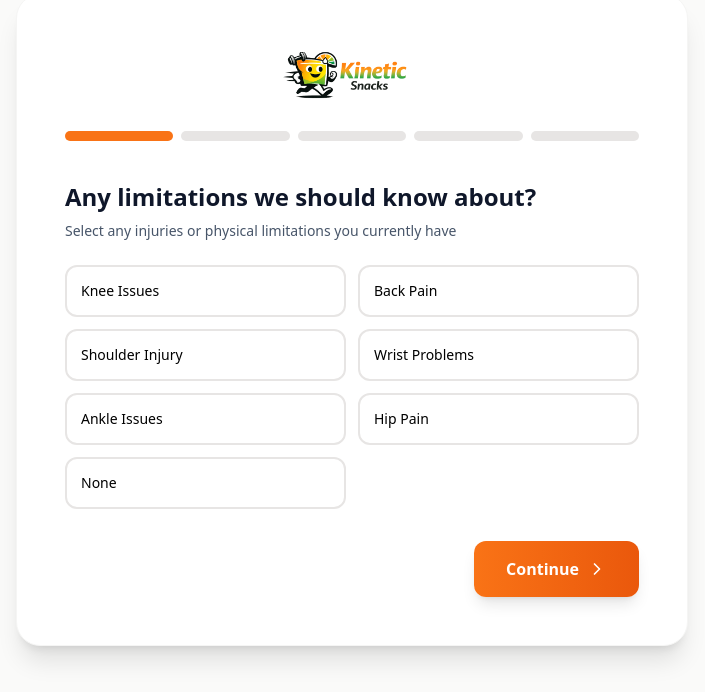
Test: Onboarding notifications setup › collects notification preferences on the final step and returns them in payload
The image size is (705, 692).
Later steps or results of the test are not shown.
Click the button "Continue".
click(557, 569)  # box x1=474 y1=541 x2=639 y2=597
(page scrolled)
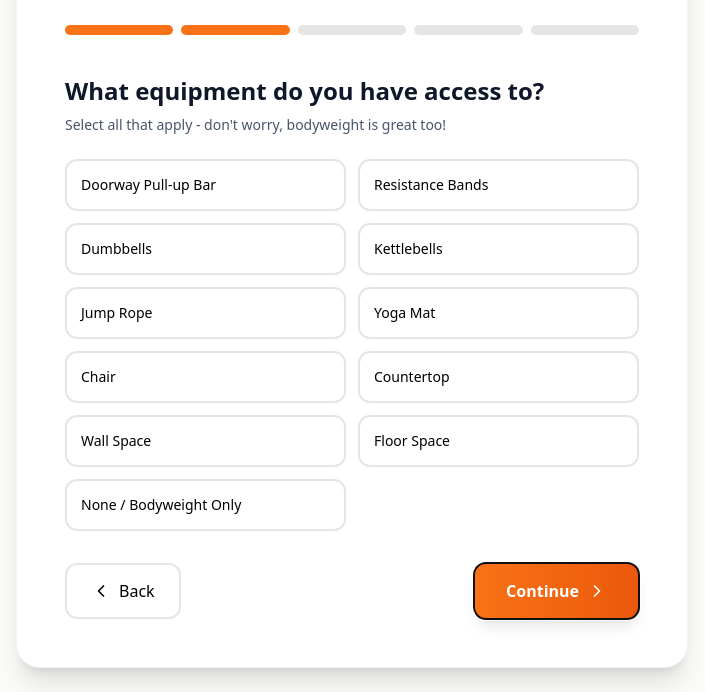
Click the button "Continue".
click(557, 591)  # box x1=474 y1=563 x2=639 y2=619
(page scrolled)
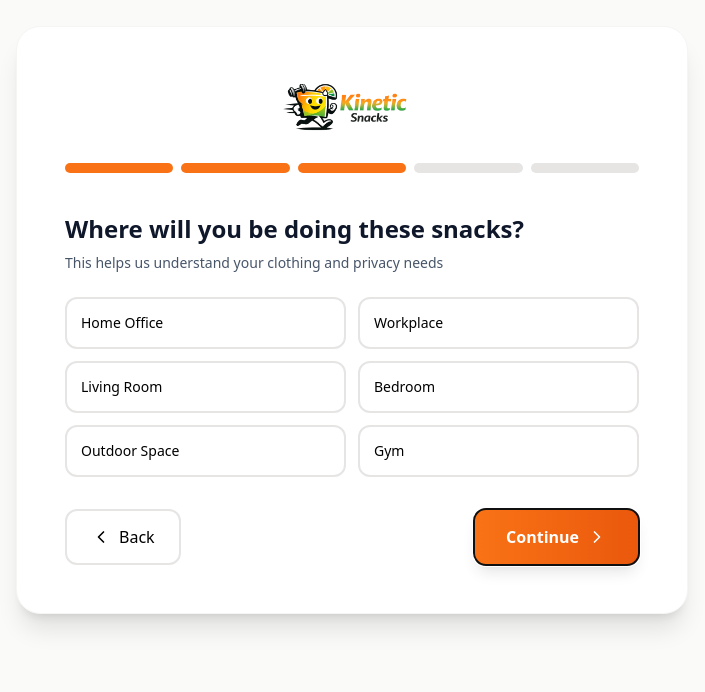
Click the button "Continue".
click(557, 537)  # box x1=474 y1=509 x2=639 y2=565
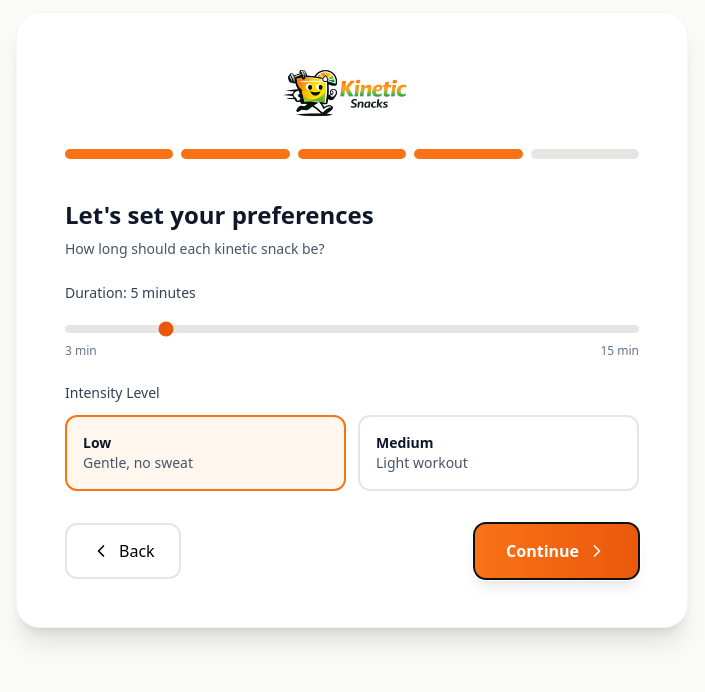
Click the button "Continue".
click(557, 551)  # box x1=474 y1=523 x2=639 y2=579
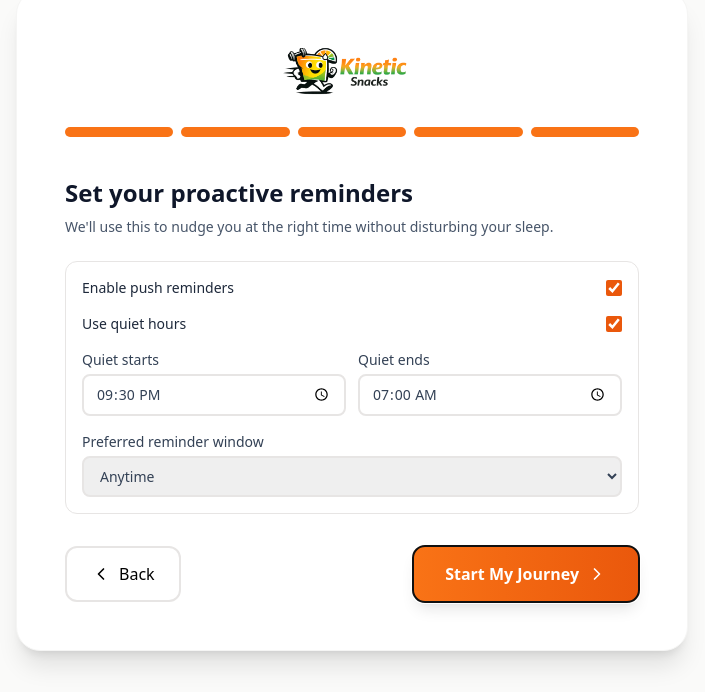
Now the heading "Set your proactive reminders" is shown, box x1=65 y1=176 x2=413 y2=208
